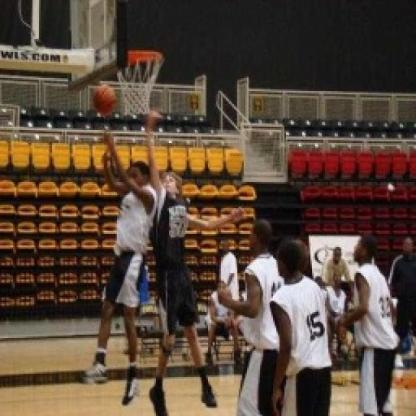basketball: (89, 80, 122, 120)
